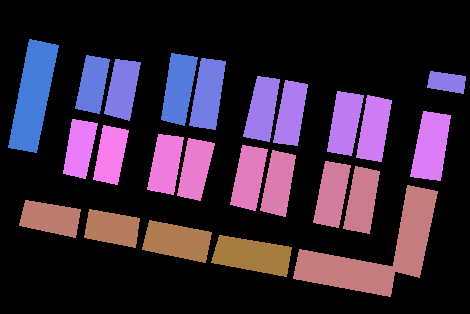parkingspot: (8, 39, 58, 152), (293, 249, 395, 296), (392, 185, 437, 277), (211, 235, 291, 276), (142, 220, 211, 262), (410, 111, 450, 180), (161, 53, 197, 125), (189, 58, 225, 129), (313, 161, 350, 227), (343, 166, 379, 233), (230, 145, 267, 210), (243, 76, 279, 141), (356, 95, 391, 161), (260, 150, 295, 216), (327, 91, 363, 155), (177, 138, 214, 200), (19, 200, 80, 237), (273, 80, 307, 145), (104, 59, 140, 120), (147, 134, 183, 194), (84, 209, 139, 247), (93, 125, 128, 184), (63, 119, 97, 178), (75, 55, 109, 113), (427, 71, 465, 93)
